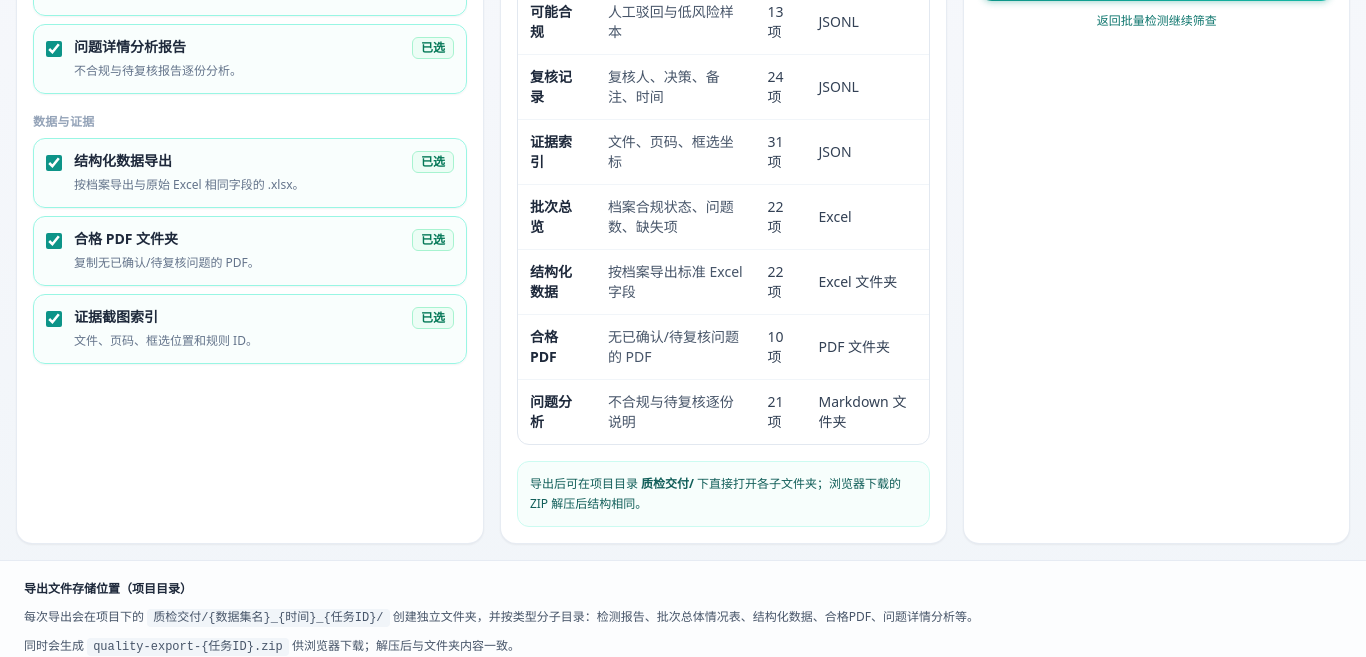
quality workspace interactions › supports the five redesigned quality workspace interactions
(page scrolled)
Click the checkbox labelled "证据截图索引".
click(54, 319)  # box [46,311,62,327]
(page scrolled)
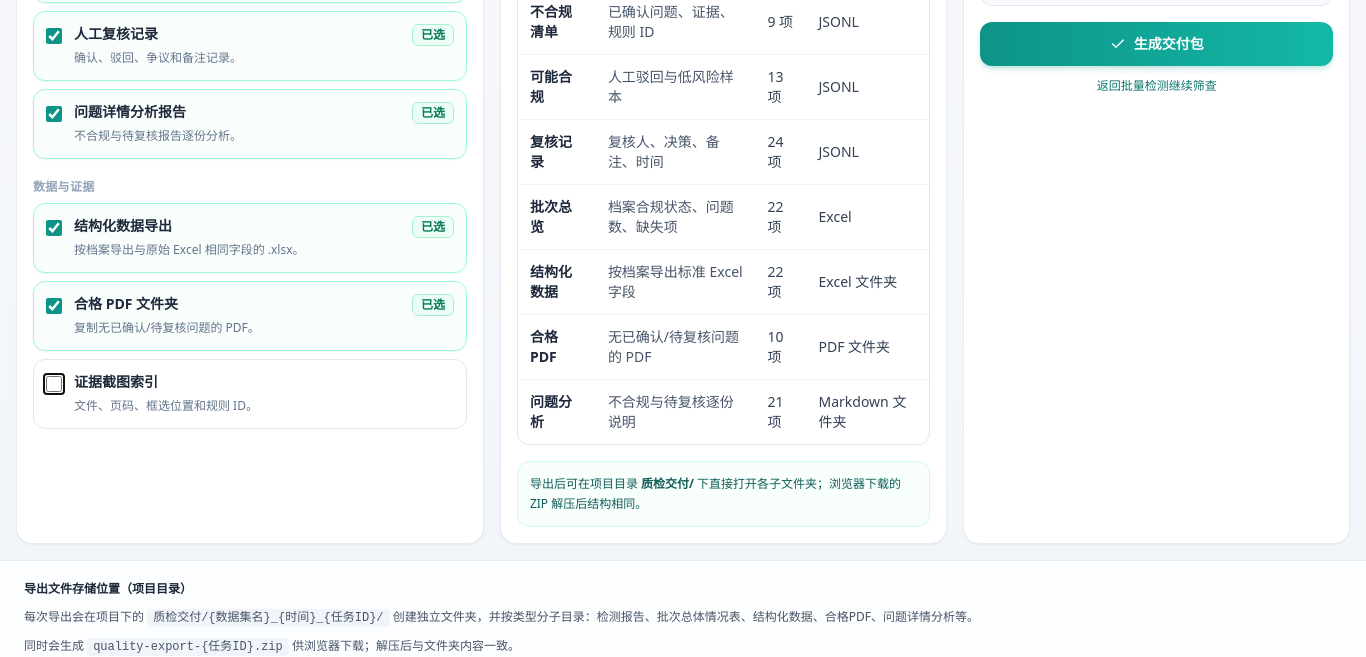
Click the button "生成交付包".
click(1157, 44)  # box [980,22,1333,66]
(page scrolled)
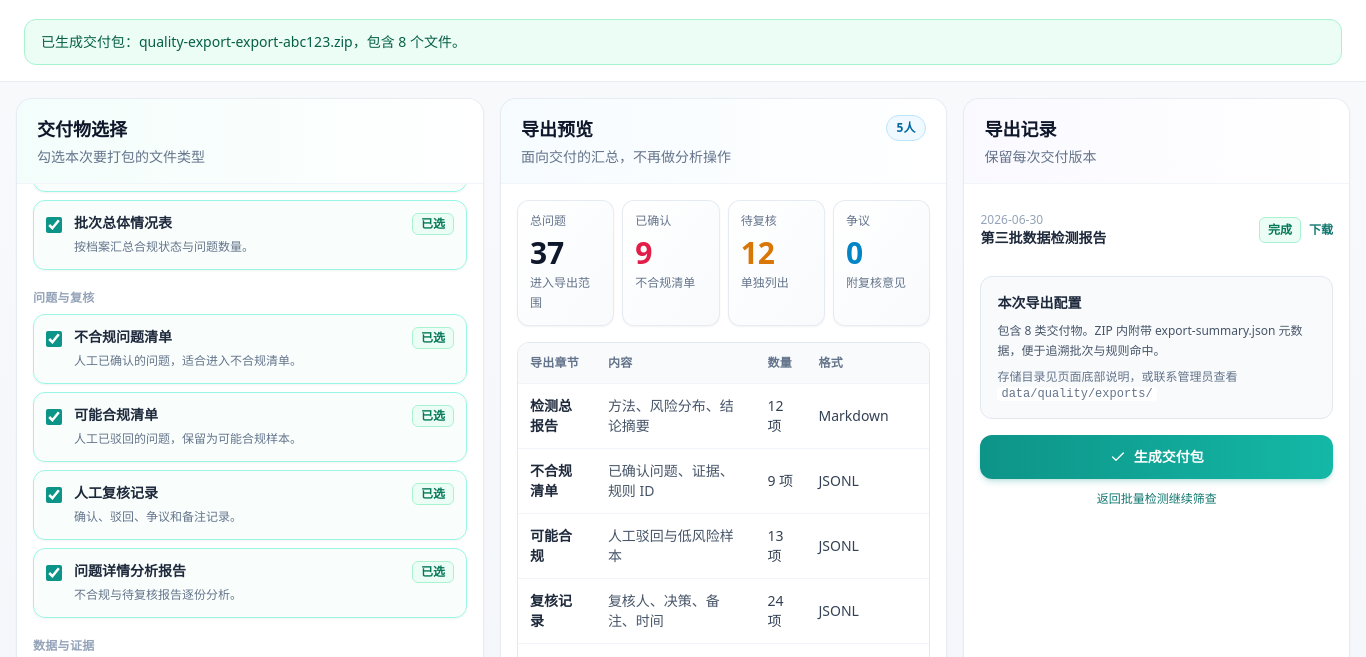
Result: the text "已生成交付包：quality-export-export-abc123.zip，包含 8 个文件。" is shown at [24,19,1342,65]
